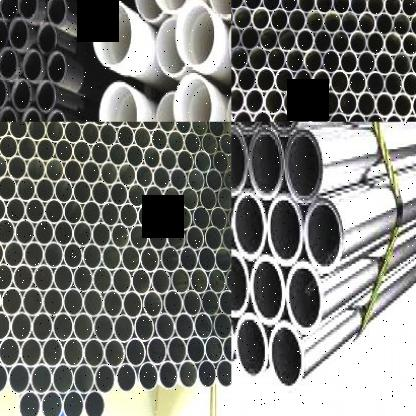pipe: (288, 226, 416, 331), (306, 170, 416, 271), (283, 122, 416, 198), (267, 320, 307, 396), (232, 310, 272, 386), (91, 0, 132, 67), (176, 0, 215, 67), (249, 131, 282, 194), (251, 257, 283, 320), (231, 194, 264, 254), (174, 72, 213, 122), (156, 16, 186, 76), (98, 81, 140, 122), (271, 204, 299, 259), (231, 123, 246, 194), (231, 253, 247, 317), (155, 91, 183, 122), (35, 81, 57, 113), (42, 337, 64, 369), (9, 363, 31, 395), (94, 364, 116, 395), (52, 364, 74, 395), (73, 364, 95, 395), (47, 50, 67, 84), (52, 312, 74, 342), (11, 312, 33, 342), (83, 338, 105, 368), (1, 287, 23, 317), (21, 337, 42, 368), (31, 364, 52, 395), (12, 79, 32, 111), (23, 49, 43, 81), (9, 18, 29, 50), (146, 337, 168, 366), (63, 338, 84, 368), (32, 312, 53, 342), (37, 23, 57, 54), (133, 0, 164, 20), (0, 336, 20, 367), (137, 363, 159, 391), (133, 314, 155, 342), (158, 361, 179, 390), (125, 338, 146, 367), (116, 364, 137, 393), (104, 339, 125, 368), (83, 289, 104, 318), (73, 313, 94, 342), (63, 288, 84, 317), (43, 288, 64, 317), (33, 264, 54, 293), (94, 313, 114, 343), (61, 390, 84, 416), (0, 46, 18, 79), (112, 267, 133, 295), (131, 268, 152, 296), (13, 264, 34, 292), (92, 266, 113, 294), (197, 360, 217, 389), (114, 314, 134, 343), (103, 290, 123, 319), (23, 288, 43, 317), (83, 390, 105, 416), (18, 390, 40, 416), (142, 291, 163, 318), (53, 265, 74, 292), (167, 337, 187, 365), (155, 313, 175, 341), (178, 361, 198, 389), (186, 336, 206, 364), (123, 291, 143, 319), (73, 265, 93, 293), (24, 241, 44, 269), (44, 241, 64, 269), (101, 245, 122, 271), (40, 390, 61, 416), (34, 220, 55, 246), (140, 246, 160, 273), (163, 290, 183, 317), (151, 268, 171, 295), (83, 243, 103, 270), (63, 242, 83, 269), (4, 241, 24, 268), (15, 219, 35, 246), (121, 245, 141, 272), (73, 221, 93, 248), (194, 312, 213, 340), (212, 312, 231, 340), (46, 0, 67, 25), (44, 199, 65, 224), (5, 198, 26, 223), (205, 335, 223, 364), (375, 92, 395, 118), (264, 89, 284, 115), (256, 67, 276, 93), (240, 26, 260, 52), (137, 204, 157, 230), (160, 246, 180, 272), (54, 221, 74, 247), (25, 198, 45, 224), (245, 88, 264, 115), (237, 66, 256, 93), (175, 313, 194, 340), (183, 290, 202, 317), (393, 93, 413, 118), (330, 70, 350, 95), (148, 226, 168, 251), (90, 141, 110, 166), (91, 181, 111, 206), (129, 225, 149, 250), (166, 226, 186, 251), (173, 206, 193, 231), (119, 203, 139, 228), (63, 159, 83, 184), (110, 224, 130, 249), (26, 157, 46, 182), (185, 226, 205, 251), (45, 158, 65, 183), (54, 179, 74, 204), (82, 201, 102, 226), (109, 182, 129, 207), (339, 91, 358, 117), (302, 90, 321, 116), (384, 71, 403, 97), (348, 70, 367, 96), (312, 69, 331, 95), (375, 51, 394, 77), (322, 49, 341, 75), (267, 47, 286, 73), (179, 246, 198, 272), (190, 268, 209, 294), (171, 268, 190, 294), (17, 176, 36, 202), (151, 0, 192, 12), (201, 290, 219, 317), (198, 246, 216, 273), (277, 28, 297, 52), (35, 178, 55, 202), (7, 156, 27, 180), (36, 138, 56, 162), (283, 90, 302, 115), (366, 71, 385, 96), (294, 69, 313, 94), (275, 68, 294, 93), (393, 52, 412, 77), (304, 49, 323, 74), (286, 48, 305, 73), (375, 12, 394, 37), (252, 7, 271, 32), (100, 161, 119, 186), (145, 185, 164, 210), (92, 223, 111, 248), (82, 160, 101, 185), (73, 180, 92, 205), (18, 136, 37, 161), (64, 200, 83, 225), (101, 202, 120, 227), (199, 187, 218, 212), (358, 92, 376, 118), (321, 91, 339, 117), (249, 46, 267, 72), (208, 268, 226, 294), (215, 360, 231, 389), (366, 31, 385, 55), (296, 29, 315, 53), (323, 11, 342, 35), (270, 8, 289, 32), (118, 163, 137, 187), (133, 126, 152, 150), (99, 123, 118, 147), (180, 187, 199, 211), (55, 139, 74, 163), (358, 51, 376, 76), (340, 50, 358, 75), (314, 29, 332, 54), (234, 6, 252, 31), (163, 186, 181, 211), (204, 226, 222, 251), (210, 206, 228, 231), (0, 134, 18, 159), (0, 175, 17, 201), (340, 12, 359, 35), (135, 165, 154, 188), (108, 143, 127, 166), (169, 168, 188, 191), (192, 207, 211, 230), (176, 150, 195, 173), (384, 32, 402, 56), (349, 31, 367, 55), (332, 30, 350, 54), (260, 27, 278, 51), (393, 13, 411, 37), (358, 12, 376, 36), (306, 10, 324, 34), (288, 9, 306, 33), (156, 206, 174, 230), (153, 166, 171, 190), (128, 184, 146, 208), (160, 148, 178, 172), (73, 140, 91, 164), (143, 146, 161, 170), (151, 128, 169, 152), (187, 168, 205, 192), (205, 168, 223, 192), (215, 246, 231, 272), (117, 125, 135, 148), (167, 130, 185, 153), (82, 122, 100, 145), (126, 145, 144, 168), (0, 218, 15, 245), (232, 46, 248, 71), (0, 0, 19, 21), (184, 132, 202, 154), (194, 151, 212, 173), (64, 122, 82, 144), (201, 133, 219, 155), (212, 151, 229, 174), (18, 0, 38, 19), (27, 122, 46, 142), (208, 0, 231, 16), (0, 264, 13, 292), (9, 122, 29, 140), (46, 122, 64, 142), (402, 32, 416, 57), (216, 188, 231, 211), (403, 72, 416, 97), (232, 87, 244, 114), (219, 290, 231, 317), (383, 0, 402, 17), (366, 0, 385, 16), (22, 107, 42, 122), (0, 311, 10, 341), (46, 108, 67, 122), (349, 0, 367, 16), (0, 363, 9, 395), (218, 133, 231, 155), (222, 335, 232, 363), (332, 0, 350, 15), (314, 0, 333, 14), (0, 17, 8, 50), (222, 226, 232, 252), (0, 77, 8, 109), (401, 0, 416, 17), (208, 122, 225, 137), (290, 110, 311, 122), (232, 110, 253, 122), (297, 0, 316, 13), (271, 110, 291, 122), (252, 110, 272, 122), (0, 108, 17, 122), (191, 122, 208, 136), (280, 0, 298, 13), (262, 0, 280, 12), (174, 122, 192, 134), (244, 0, 263, 11), (0, 154, 8, 180), (309, 112, 329, 122), (232, 25, 240, 50), (158, 122, 176, 133), (224, 168, 232, 192), (366, 112, 385, 122), (347, 112, 366, 122), (329, 112, 348, 122), (384, 113, 404, 122), (141, 122, 159, 131), (232, 66, 238, 91), (410, 13, 416, 38), (226, 269, 232, 294), (0, 197, 6, 222), (0, 122, 9, 138), (125, 122, 142, 130), (411, 93, 416, 119), (411, 53, 416, 77), (232, 0, 244, 10), (0, 240, 4, 268), (403, 114, 416, 122), (108, 122, 124, 128), (228, 207, 232, 231), (90, 122, 107, 127), (0, 286, 1, 316)
